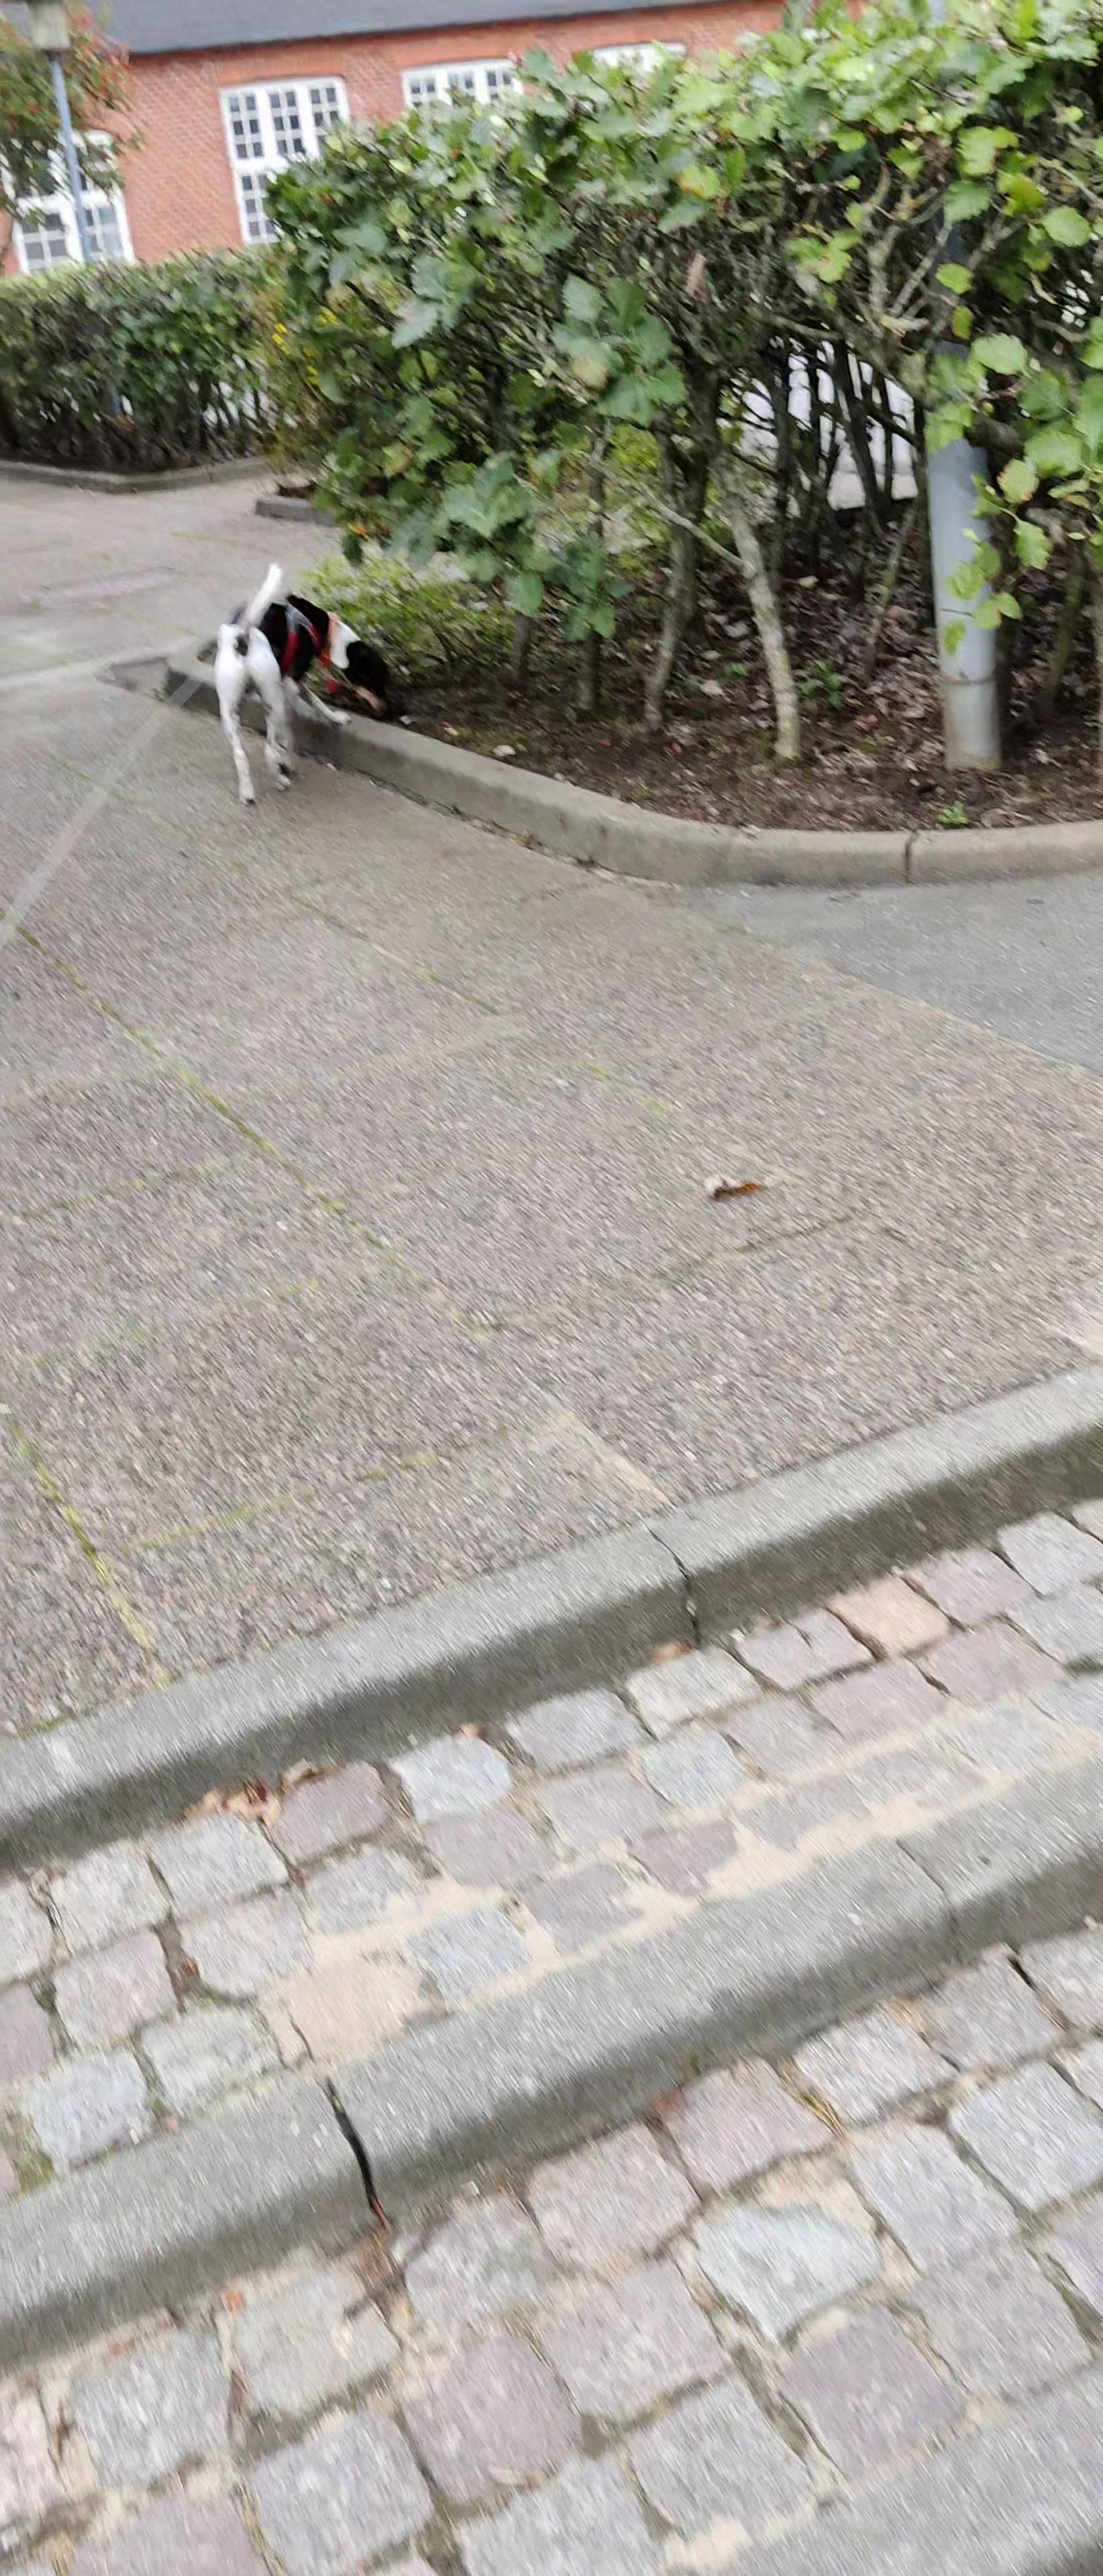Dog: (197, 557, 396, 815)
